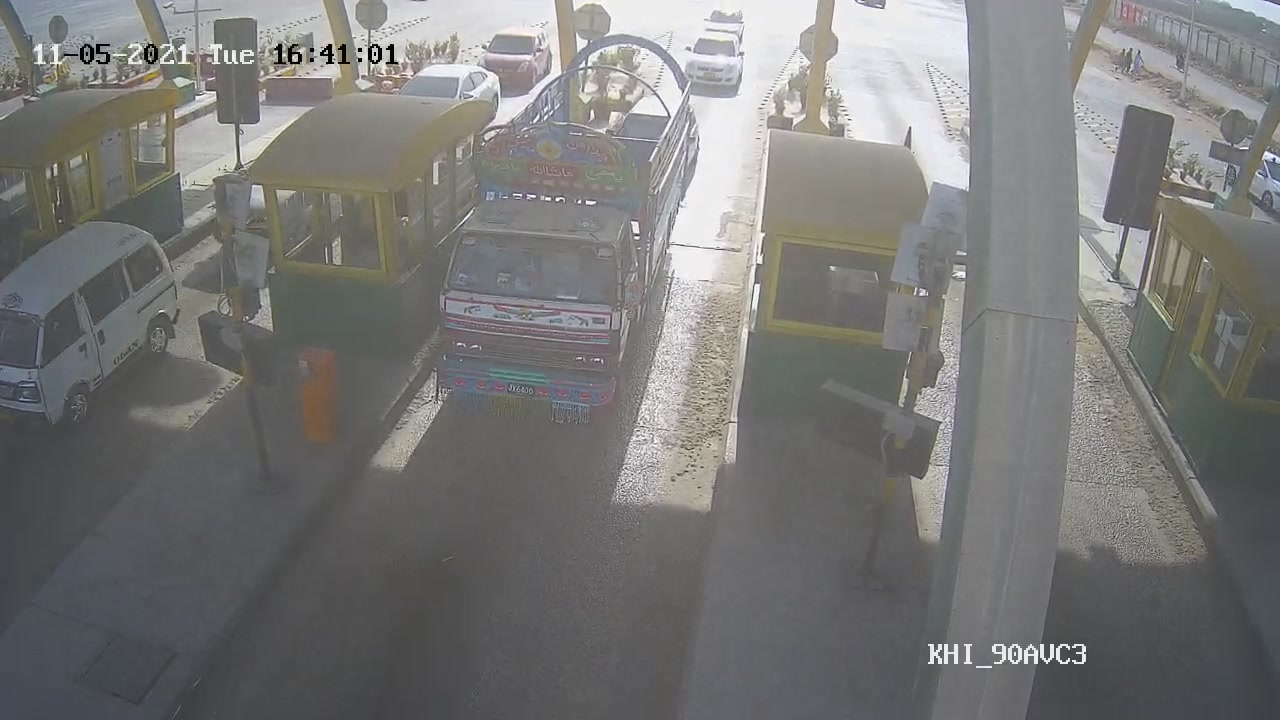F5: (426, 31, 708, 425)
